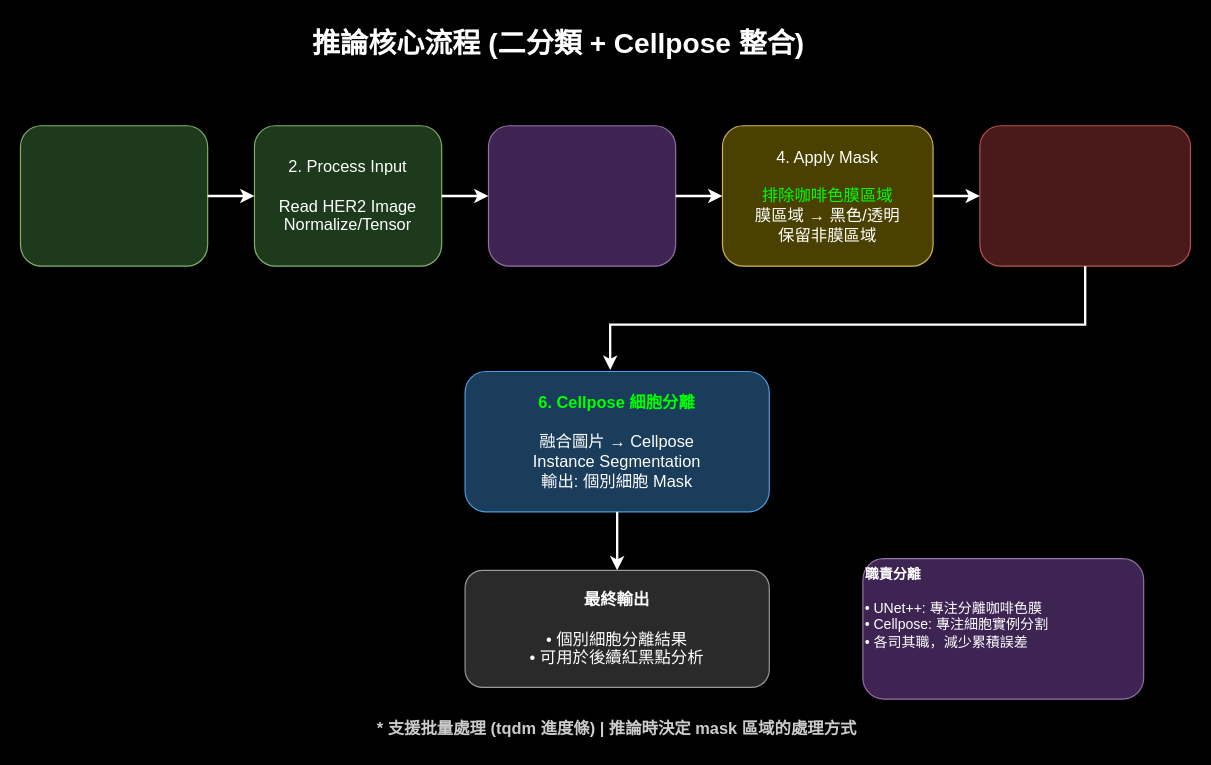
The diagram is 1211 pixels wide and 765 high, and some of its shapes have lost their labels. Each missing label, with the box of its shape:
1. Load Model Load Weights Eval Mode (2-class model): (19, 125, 208, 266)
3. Prediction Model Inference Argmax (0-1) 咖啡色膜 Mask: (487, 125, 676, 266)
5. Merge with Dish HER2 處理後圖片 + Dish 圖片 → 融合圖片: (979, 125, 1190, 266)
